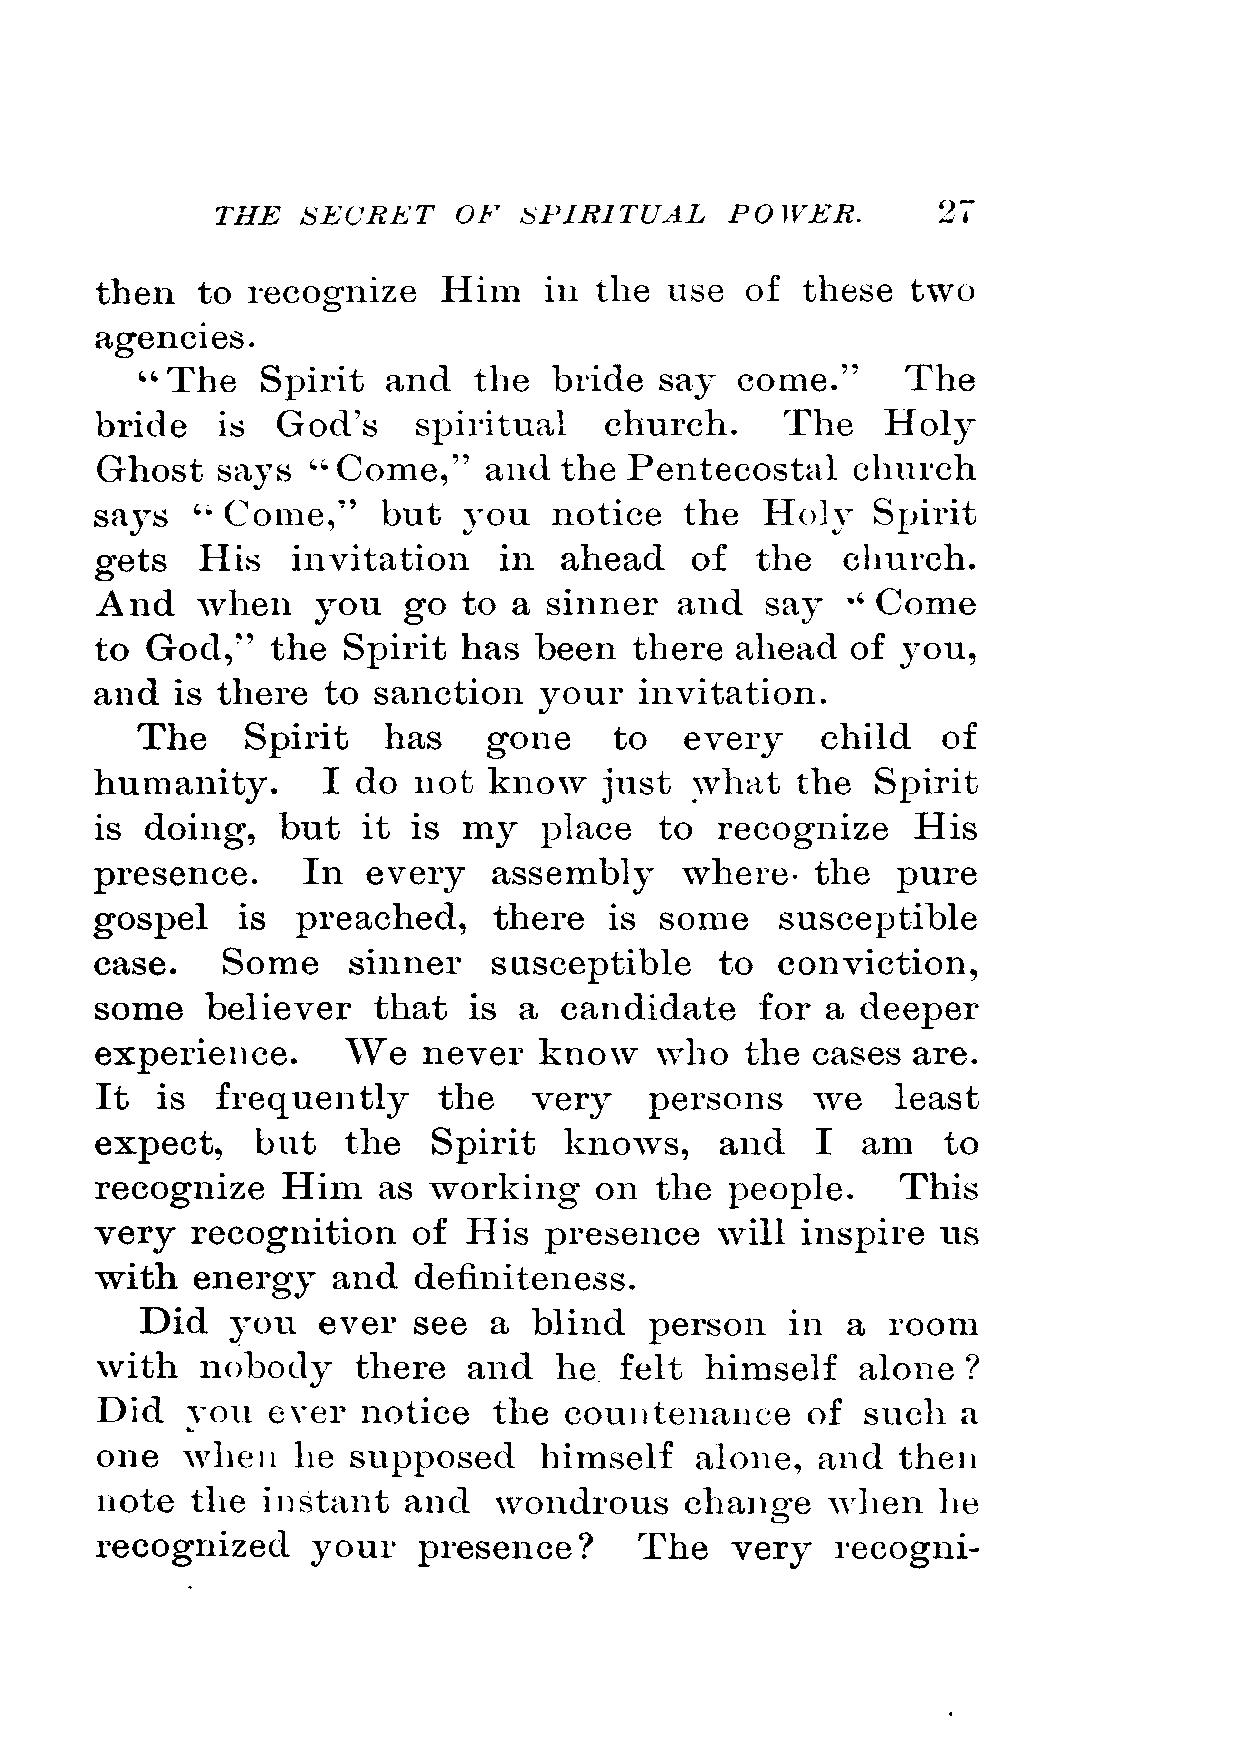content: (86, 271, 989, 1567)
content_chapter: (207, 199, 864, 228)
content_pagenumber: (931, 188, 982, 234)
